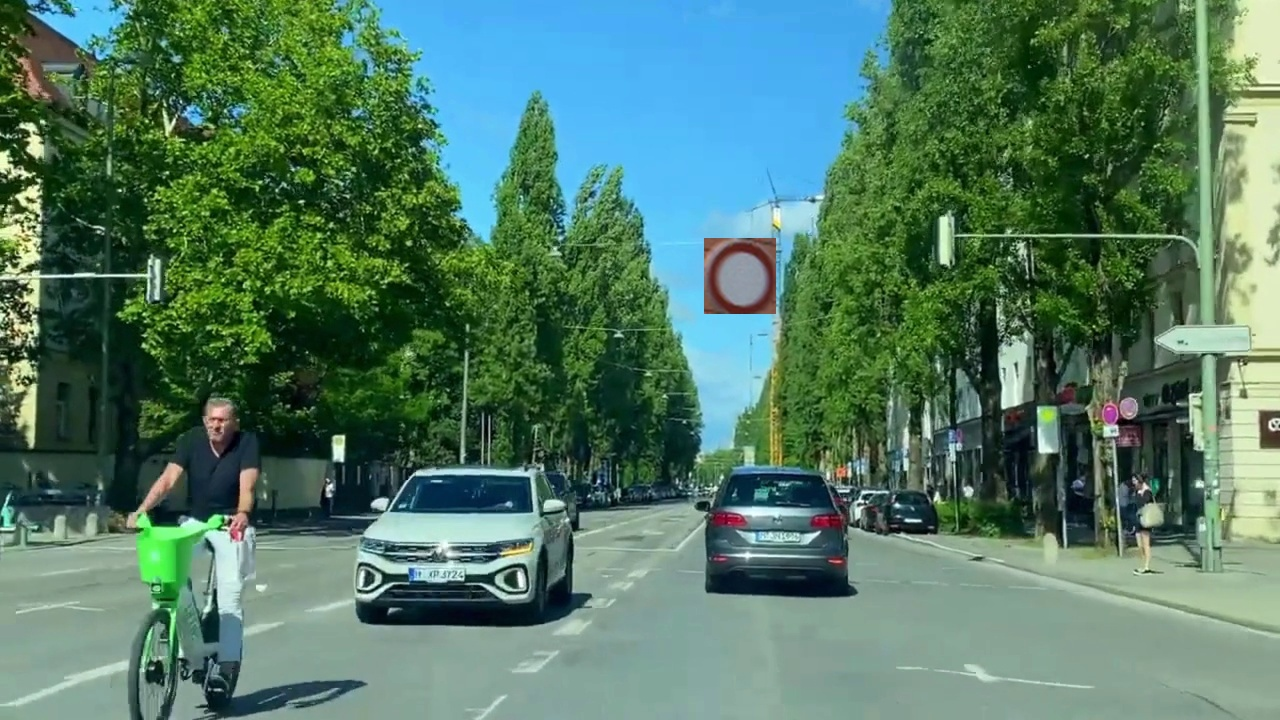No vehicles: (704, 238, 776, 314)
